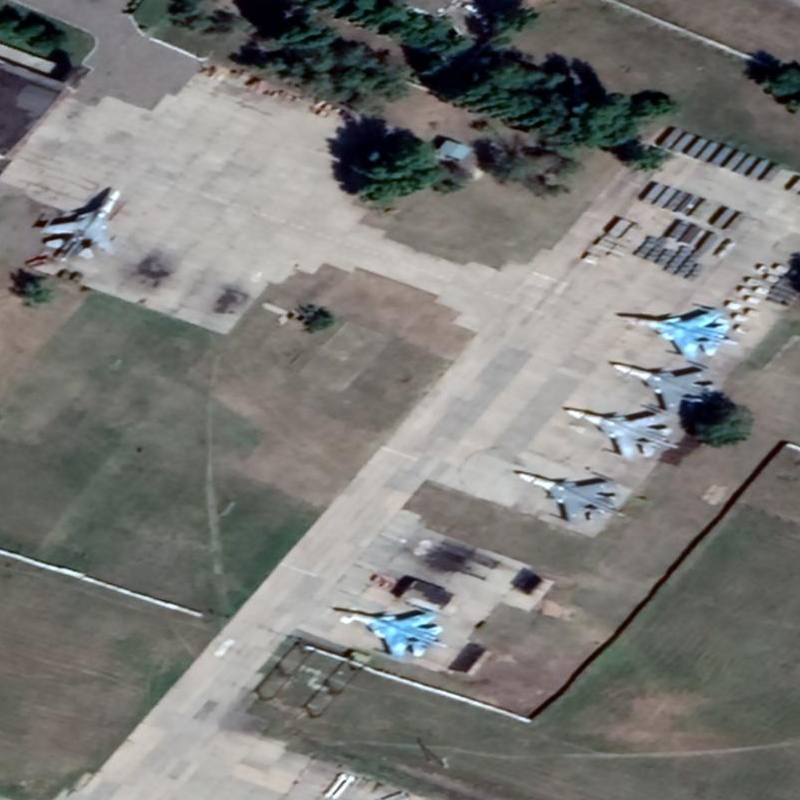A19: (564, 403, 683, 463), (625, 304, 741, 364), (332, 603, 449, 662), (37, 188, 122, 265), (515, 469, 627, 526), (608, 359, 715, 418)
